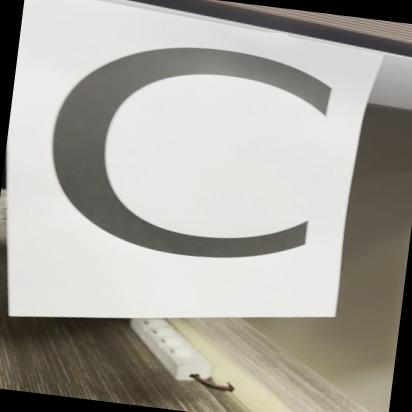seat: (0, 0, 393, 319)
